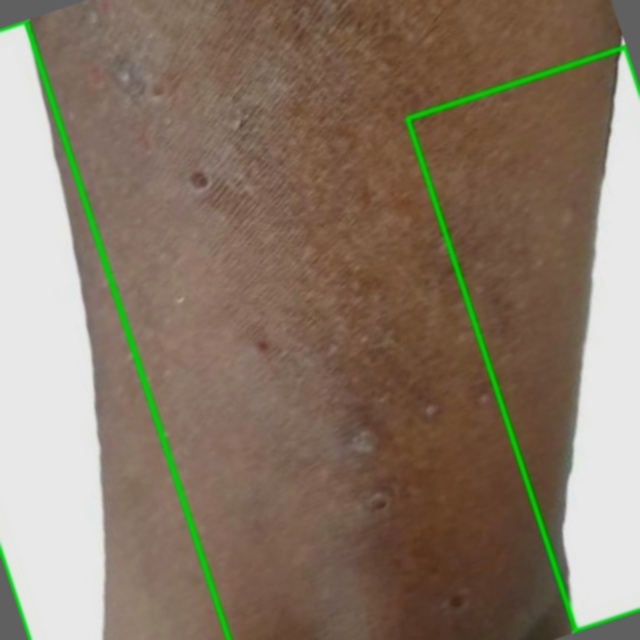Contact Dermatitis: (407, 47, 639, 631)
